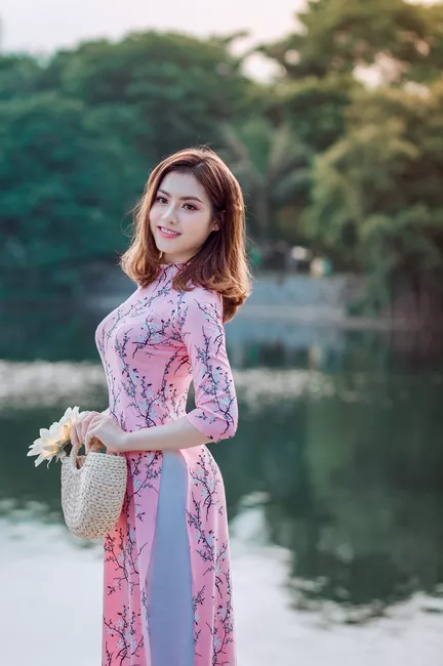face: (149, 172, 208, 252)
